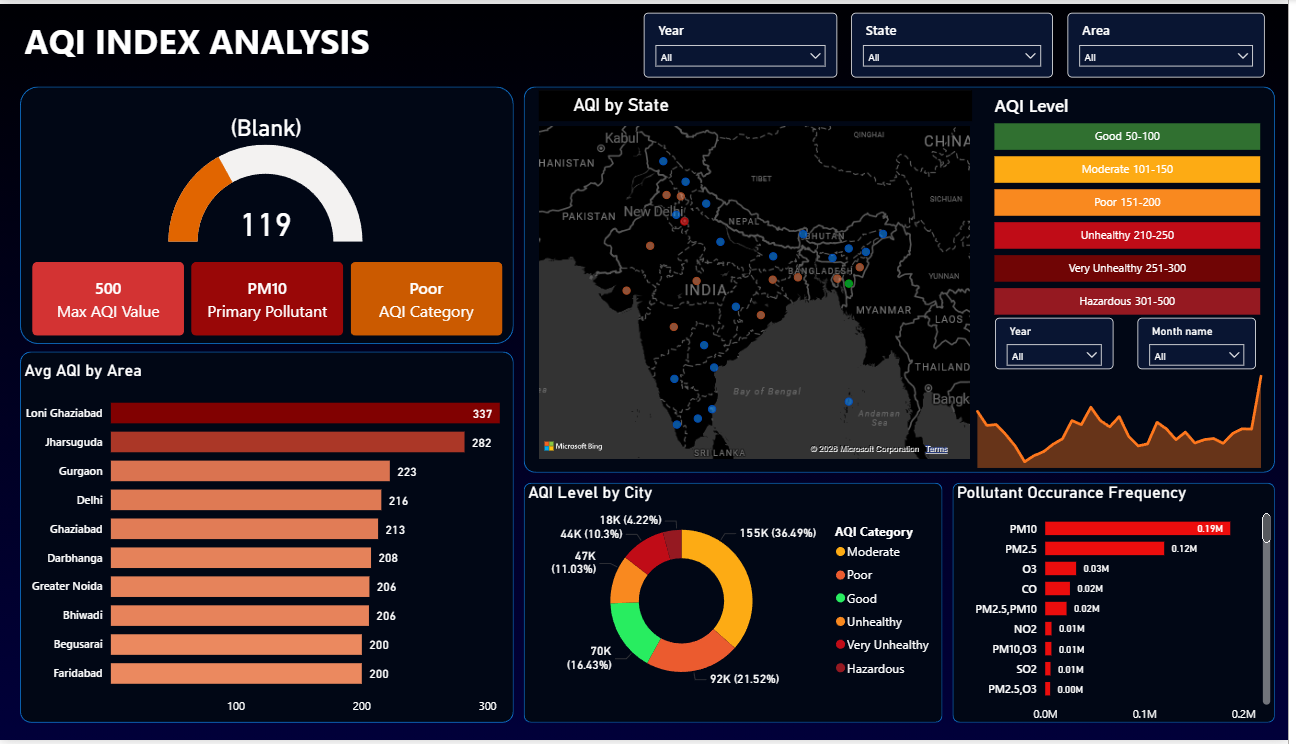

The page's visual inventory and layout, read from the dashboard file:
{"tool":"powerbi","page":{"name":"AQI_Index_Analysis","canvas":[1400,800],"ordinal":0},"visuals":[{"type":"textbox","box":[21.7,9.5,407.8,61.2],"z":0},{"type":"shape","box":[21.7,89.7,536.9,280],"z":1000},{"type":"gauge","fields":{"Y":["day_wise_aqi_data.Avg AQI"]},"box":[138.6,148.2,300.4,115.5],"z":2000},{"type":"slicer","fields":{"Values":["Calendar table.year"]},"box":[700,9.5,210.7,70.7],"z":3000},{"type":"slicer","fields":{"Values":["day_wise_aqi_data.state"]},"box":[925.6,9.5,218.8,70.7],"z":4000},{"type":"slicer","fields":{"Values":["day_wise_aqi_data.area"]},"box":[1160.8,9.5,214.8,70.7],"z":5000},{"type":"cardVisual","fields":{"Data":["Max(day_wise_aqi_data.aqi_value)","day_wise_aqi_data.Primary Pollutant","day_wise_aqi_data.AQI Category KPI"]},"box":[23.1,263.7,535.5,114.2],"z":6000},{"type":"shape","box":[569.5,92.4,816.9,420],"z":6500},{"type":"card","fields":{"Values":["day_wise_aqi_data.KPI Title"]},"box":[150.9,108.7,280,39.4],"z":7000},{"type":"group","id":"g1","title":"Group 1","box":[575,99.2,478.4,410.5],"z":7125},{"type":"shape","box":[577.7,101.9,471.7,35.3],"z":7250},{"type":"shape","box":[579.1,101.9,470.3,44.9],"z":8000,"group":"g1"},{"type":"card","fields":{"Values":["day_wise_aqi_data.State Map Title"]},"box":[579,101.9,179.4,34],"z":9000},{"type":"map","title":"State","fields":{"Category":["day_wise_aqi_data.state"]},"box":[575,99.2,478.4,410.5],"z":9500,"group":"g1"},{"type":"barChart","fields":{"Category":["day_wise_aqi_data.AQI Label"],"Y":["day_wise_aqi_data.Label"]},"box":[1065.6,110.1,309.9,227],"z":10000},{"type":"textbox","box":[1076.5,92.4,191.7,35.3],"z":11000},{"type":"areaChart","fields":{"Category":["Calendar table.Date.Variation.Date Hierarchy.Day"],"Y":["Measure_.Avg AQI"]},"box":[1048,377.9,338.4,131.8],"z":12000},{"type":"slicer","fields":{"Values":["Calendar table.Date.Variation.Date Hierarchy.Year"]},"box":[1081.9,341.2,129.1,55.7],"z":13000},{"type":"slicer","fields":{"Values":["Calendar table.month name"]},"box":[1236.9,341.2,129.1,55.7],"z":14000},{"type":"shape","box":[21.7,377.9,536.9,403.7],"z":15000},{"type":"barChart","fields":{"Category":["day_wise_aqi_data.area"],"Y":["Measure_.Avg AQI"]},"box":[21.7,387.4,536.9,394.2],"z":16000},{"type":"shape","box":[569.5,520.6,455.3,261],"z":17000},{"type":"donutChart","title":"AQI Level by City","fields":{"Y":["day_wise_aqi_data.Count of Rows"],"Category":["day_wise_aqi_data.AQI Category"]},"box":[569.5,520.6,455.3,236.5],"z":18000},{"type":"shape","box":[1035.7,520.6,350.7,261],"z":19000},{"type":"barChart","title":"Pollutant Occurance Frequency","fields":{"Y":["day_wise_aqi_data.Count of Rows"],"Category":["day_wise_aqi_data.prominent_pollutants"]},"box":[1035.7,520.6,350.7,270.5],"z":21000}]}

Visuals, with their boxes in screenshot pixels (x1, y1, x2, y2), scaled from the page's 1400x800 canvas onto the 1296x744 screenshot:
textbox: bbox(20, 9, 398, 66)
shape: bbox(20, 83, 517, 344)
gauge - day_wise_aqi_data.Avg AQI: bbox(128, 138, 406, 245)
slicer - Calendar table.year: bbox(648, 9, 843, 75)
slicer - day_wise_aqi_data.state: bbox(857, 9, 1059, 75)
slicer - day_wise_aqi_data.area: bbox(1075, 9, 1273, 75)
cardVisual - Max(day_wise_aqi_data.aqi_value) x day_wise_aqi_data.Primary Pollutant: bbox(21, 245, 517, 351)
shape: bbox(527, 86, 1283, 477)
card - day_wise_aqi_data.KPI Title: bbox(140, 101, 399, 138)
"Group 1" group: bbox(532, 92, 975, 474)
shape: bbox(535, 95, 971, 128)
shape: bbox(536, 95, 971, 137)
card - day_wise_aqi_data.State Map Title: bbox(536, 95, 702, 126)
"State" map: bbox(532, 92, 975, 474)
barChart - day_wise_aqi_data.AQI Label x day_wise_aqi_data.Label: bbox(986, 102, 1273, 314)
textbox: bbox(997, 86, 1174, 119)
areaChart - Calendar table.Date.Variation.Date Hierarchy.Day x Measure_.Avg AQI: bbox(970, 351, 1283, 474)
slicer - Calendar table.Date.Variation.Date Hierarchy.Year: bbox(1002, 317, 1121, 369)
slicer - Calendar table.month name: bbox(1145, 317, 1265, 369)
shape: bbox(20, 351, 517, 727)
barChart - day_wise_aqi_data.area x Measure_.Avg AQI: bbox(20, 360, 517, 727)
shape: bbox(527, 484, 949, 727)
"AQI Level by City" donutChart: bbox(527, 484, 949, 704)
shape: bbox(959, 484, 1283, 727)
"Pollutant Occurance Frequency" barChart: bbox(959, 484, 1283, 736)
